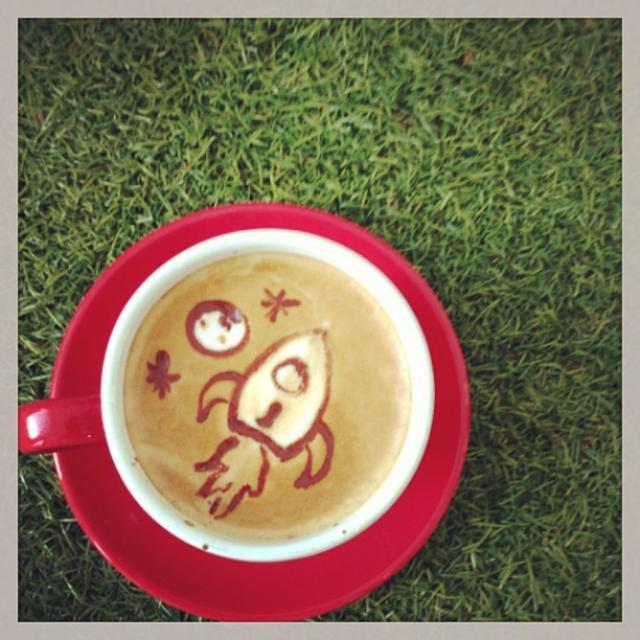latte: (97, 229, 435, 565)
